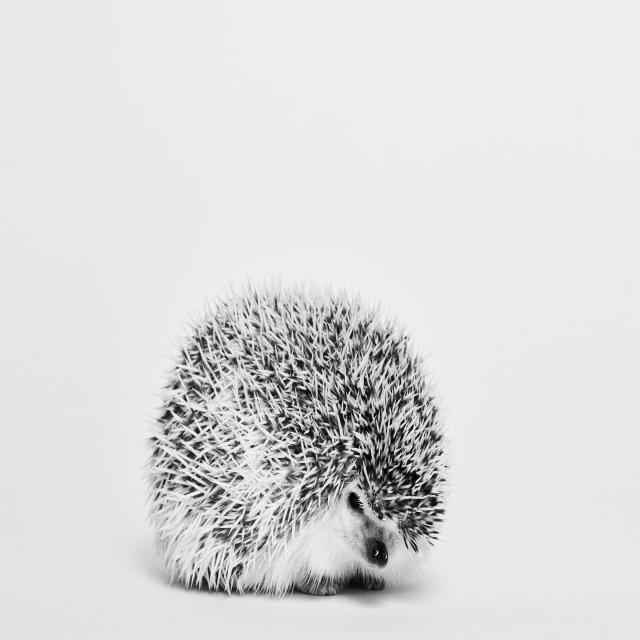Hedgehog: (136, 279, 452, 611)
